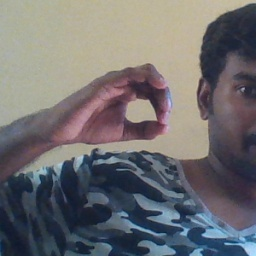O: (57, 63, 178, 147)
